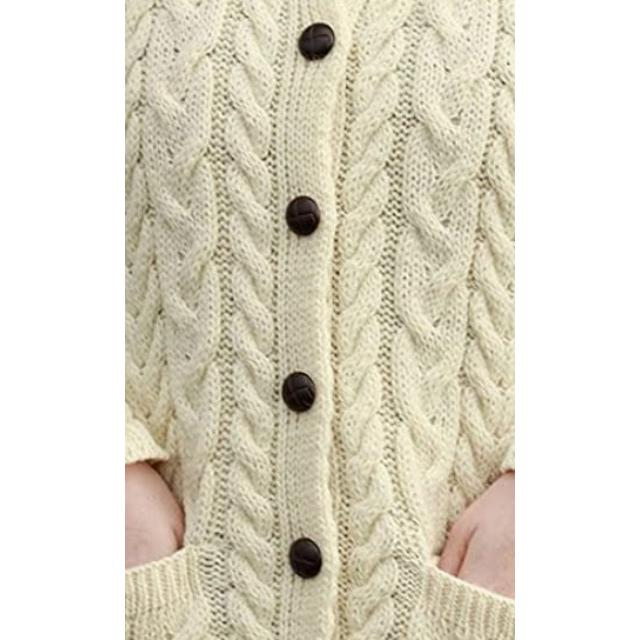wool: (125, 0, 515, 640)
